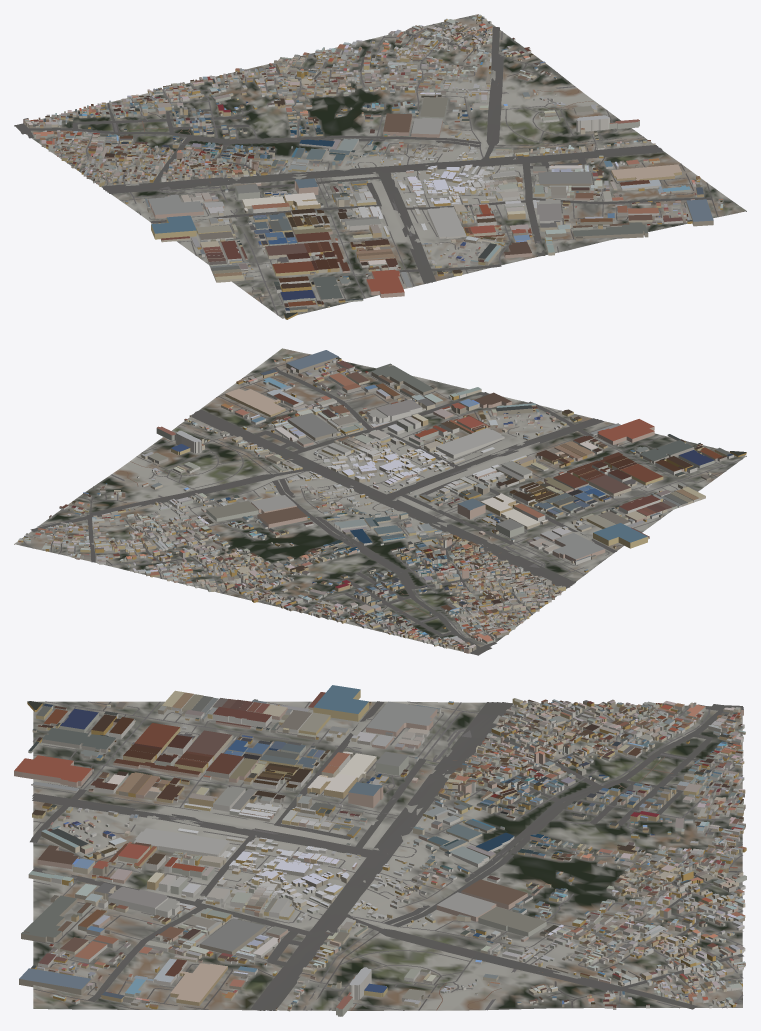
3 renders of one model, top to bottom at view 1: azimuth 30°, elevation 25°; view 2: azimuth 150°, elevation 25°; view 3: azimuth 270°, elevation 25°, orthographic. The views are drawn at different scales.
Parts seen in each view (by area): view 1: buildings, ground, roads; view 2: buildings, ground, roads; view 3: buildings, ground, roads.
Part boxes in pixels (bbox=[...]): buildings: bbox=[23, 14, 723, 319]; ground: bbox=[14, 14, 746, 318]; roads: bbox=[14, 16, 718, 315]; buildings: bbox=[18, 350, 746, 653]; ground: bbox=[14, 348, 746, 651]; roads: bbox=[21, 354, 742, 655]; buildings: bbox=[14, 685, 746, 1016]; ground: bbox=[33, 701, 742, 1010]; roads: bbox=[30, 701, 743, 1010].
Bounding box in the file's own units: 1470 × 44.11 × 1447.
